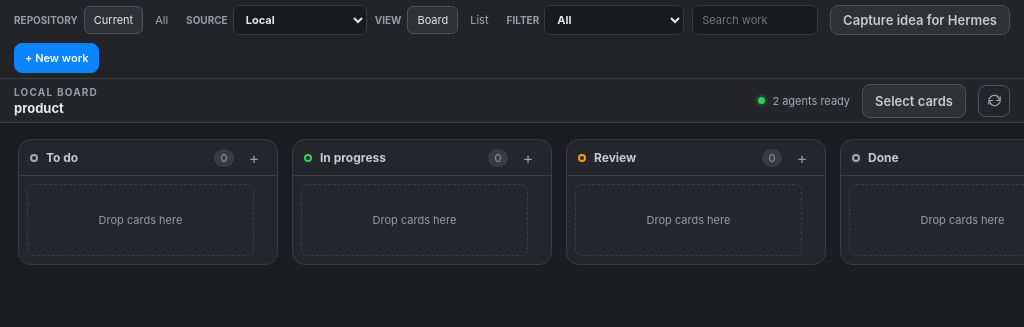
unified agent workspace › removes Hermes projection failures after Hermes disconnects
This screenshot has width=1024, height=327.
Select "All sources" in the dropdown named "Work source" at (300, 20), box [233,5,367,35]
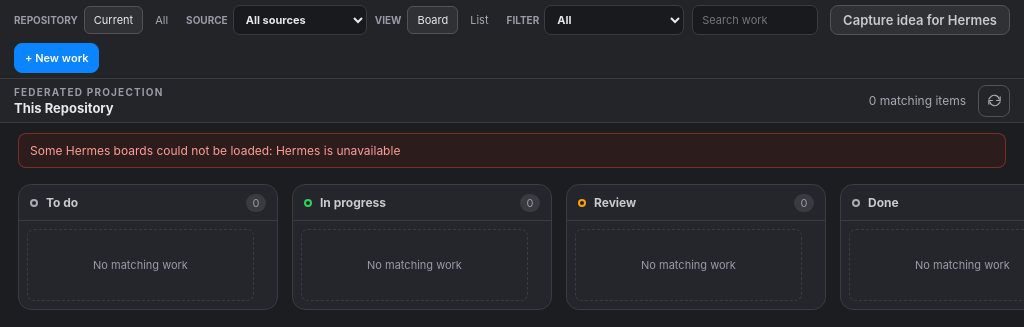
Now the message shows "Hermes is unavailable", box [30,143,400,158]
